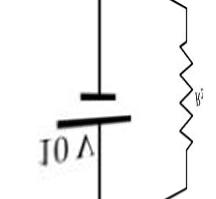Battery: (49, 77, 134, 135)
